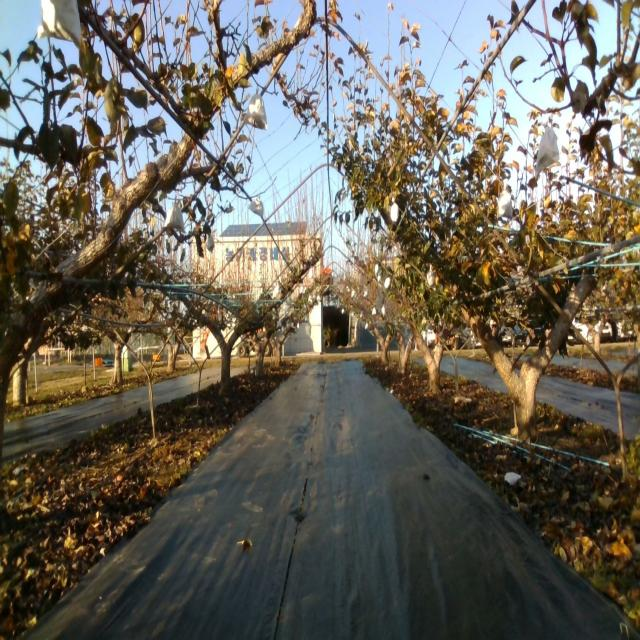pearbags: (36, 0, 82, 38), (534, 125, 560, 178), (245, 92, 268, 130), (163, 203, 184, 233), (497, 190, 512, 218), (249, 194, 264, 218), (390, 200, 400, 224)
